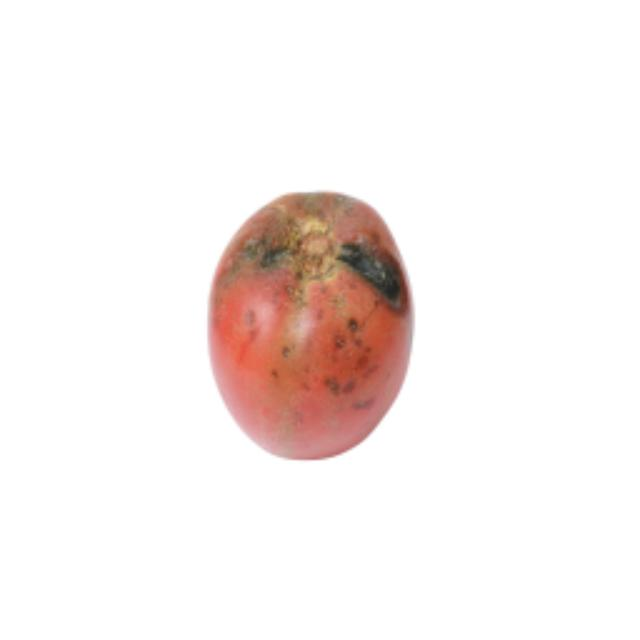defect: (200, 184, 413, 466)
